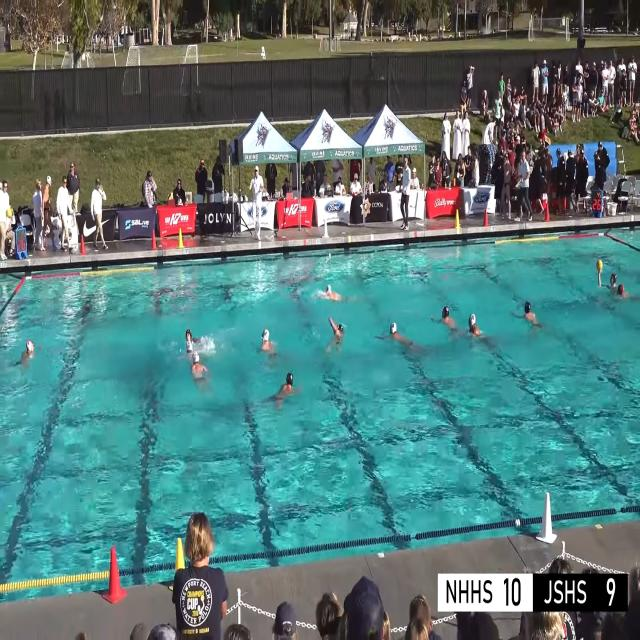ball: (596, 260, 602, 270), (6, 208, 12, 218)
